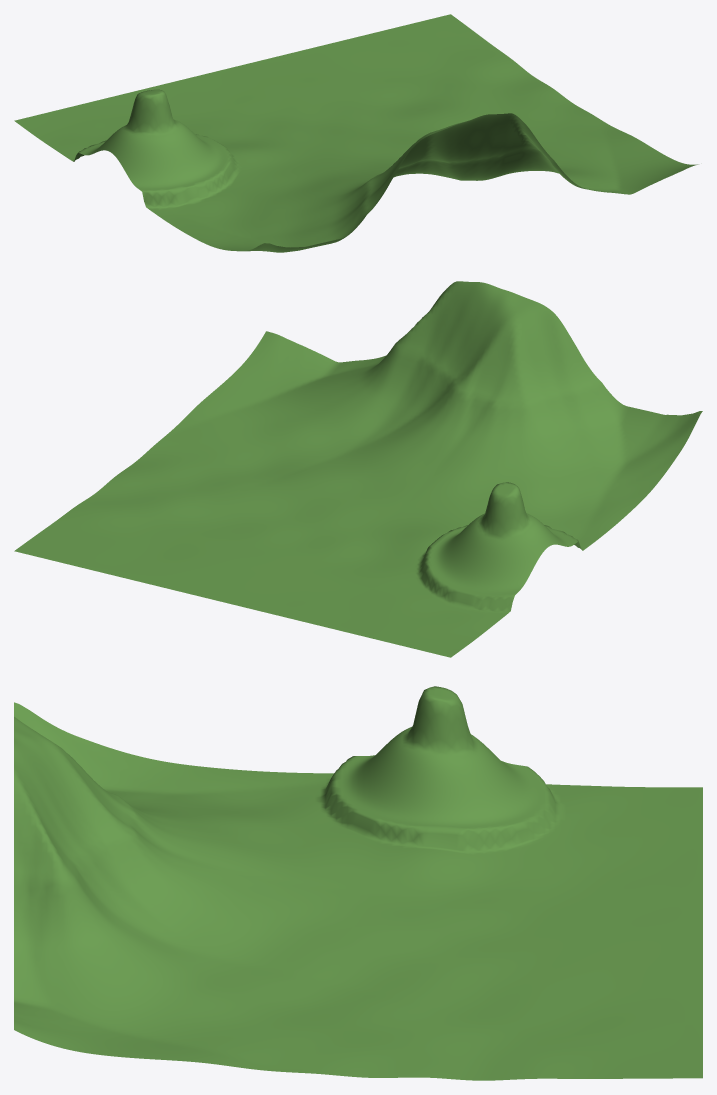
Rendered from SM_Terrain_05_00.fbx.
3 renders of one model, top to bottom at view 1: azimuth 30°, elevation 25°; view 2: azimuth 150°, elevation 25°; view 3: azimuth 270°, elevation 25°, orthographic. The views are drawn at different scales.
Parts seen in each view (by area): view 1: SM_Terrain_05_00; view 2: SM_Terrain_05_00; view 3: SM_Terrain_05_00.
Boxes of the visible parts, x1,y1,x2,y2 form: SM_Terrain_05_00: (14,14,698,252); SM_Terrain_05_00: (14,281,702,657); SM_Terrain_05_00: (14,686,702,1080).
Bounding box in the file's own units: 384 × 117 × 384.
